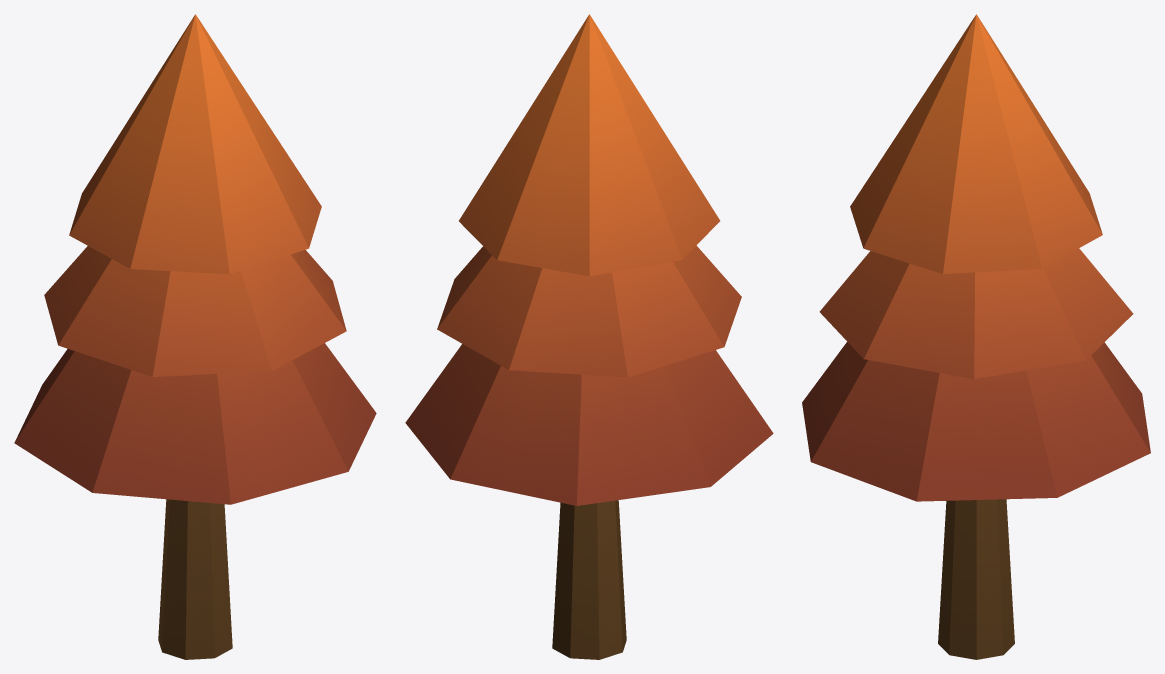
Rendered from PineTree.fbx.
3 views of the same model, side by side, from view 1: azimuth 30°, elevation 25°; view 2: azimuth 150°, elevation 25°; view 3: azimuth 270°, elevation 25° (orthographic).
Visible parts, largest first — view 1: pCylinder15; view 2: pCylinder15; view 3: pCylinder15.
Part boxes in pixels (<box>): pCylinder15: <box>14,14,376,659</box>; pCylinder15: <box>405,14,773,659</box>; pCylinder15: <box>802,14,1150,659</box>.
Bounding box in the file's own units: 3.06 × 6.09 × 3.06.
Materials: 1 (1 with a texture image).
